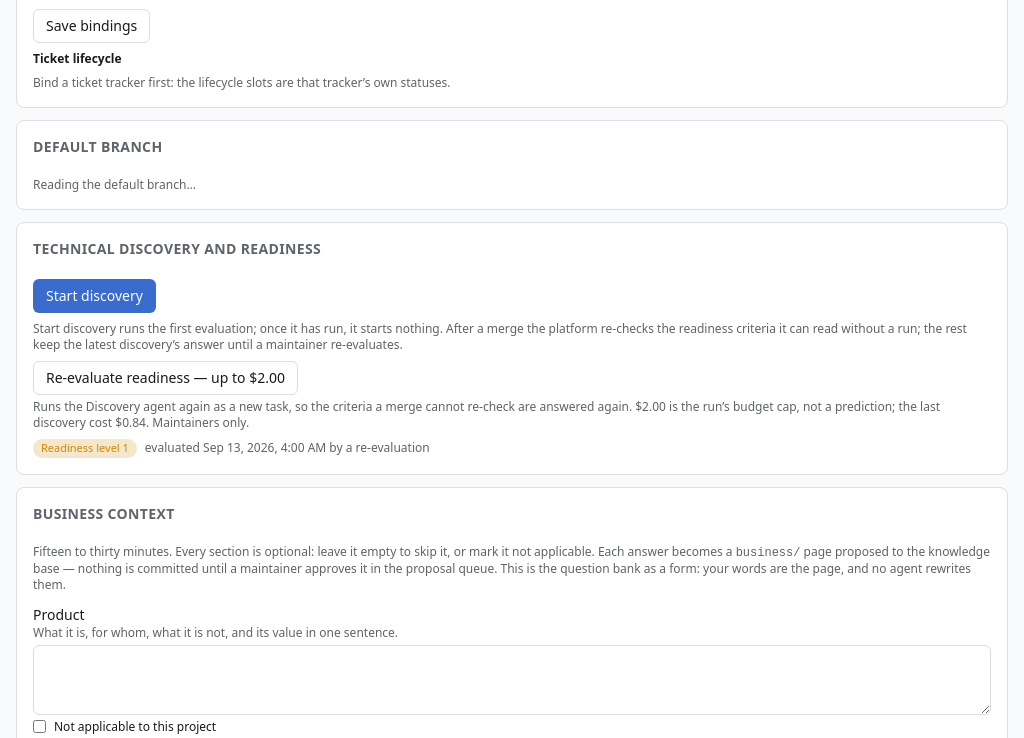
Test: the re-evaluate control › sends one keyed command when pressed, and shows what the server said
(page scrolled)
Click the button "Re-evaluate readiness — up to $2.00" at (166, 378), box [33, 361, 298, 395]
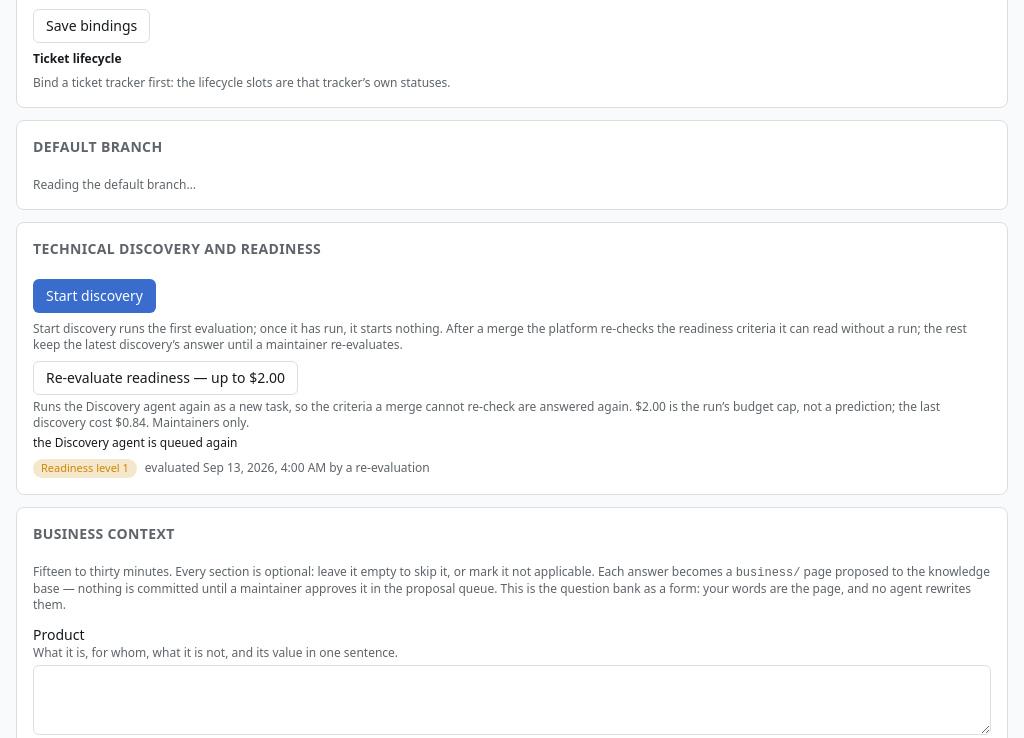
Expected: the text "the Discovery agent is queued again" is shown, [33, 434, 237, 451]
